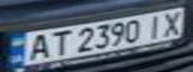0: (121, 17, 148, 44)
2: (72, 25, 96, 54)
3: (93, 21, 115, 50)
9: (109, 20, 130, 47)
A: (21, 32, 54, 61)
I: (142, 12, 169, 39)
T: (45, 28, 72, 57)
X: (157, 9, 187, 37)
